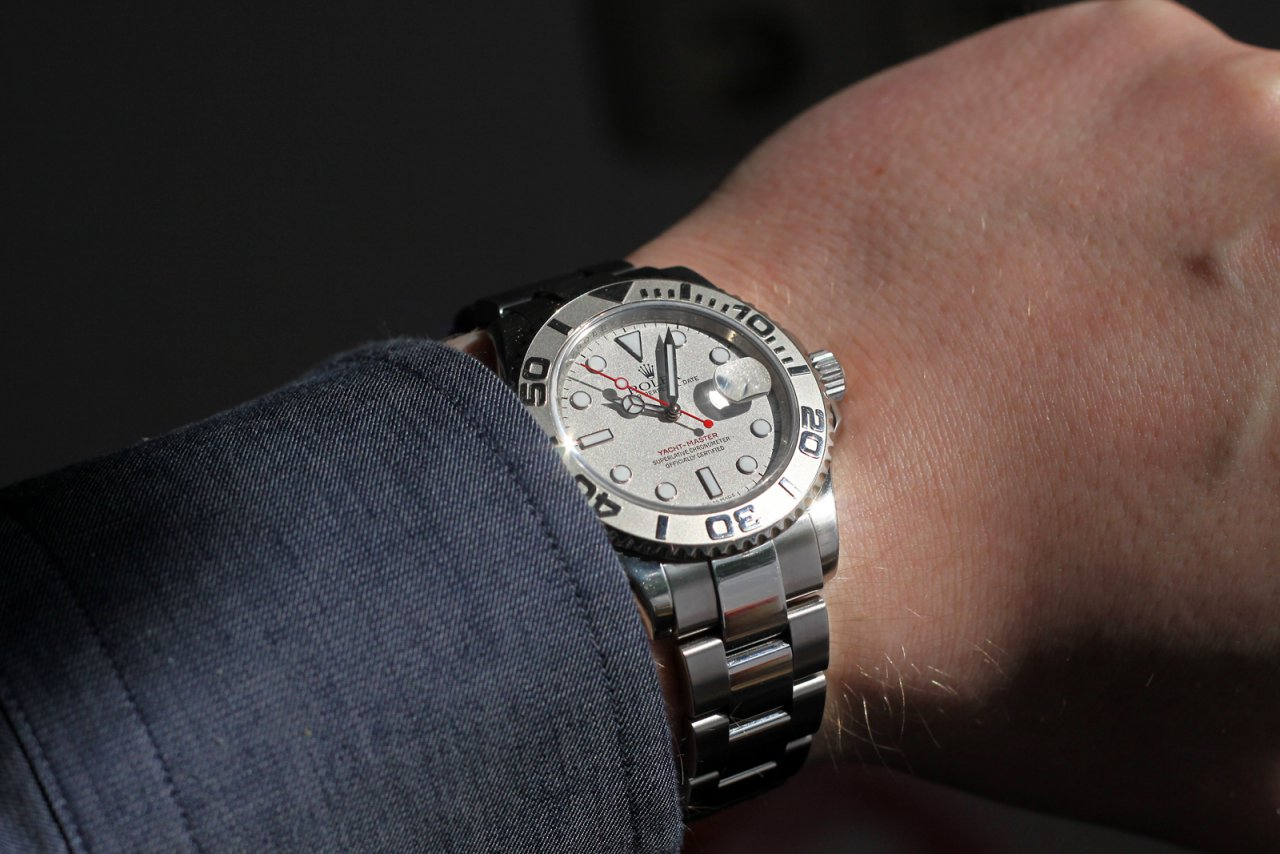clock: (554, 300, 801, 514)
